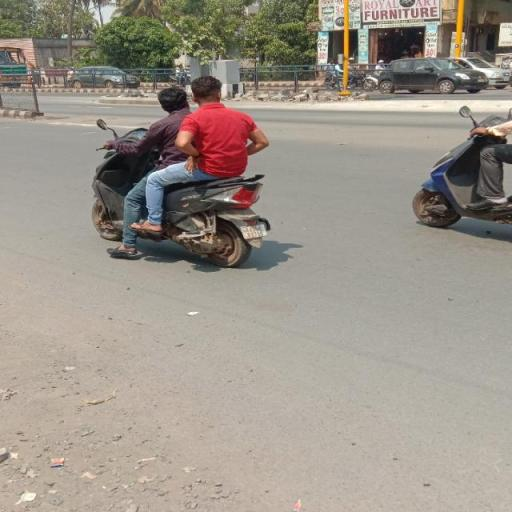bike: (84, 74, 274, 268)
numberplate: (240, 221, 269, 240)
withouthelmet: (193, 77, 219, 103), (160, 89, 188, 112)
